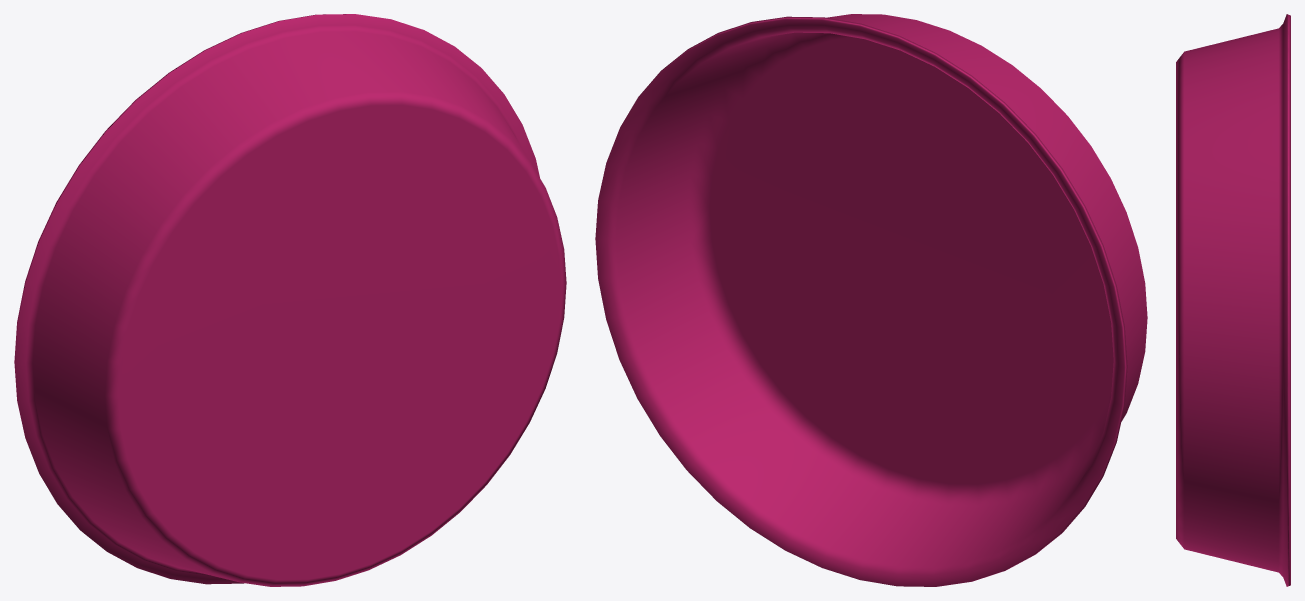
Rendered from SM_Dishes_07.fbx.
3 views of the same model, side by side, from view 1: azimuth 30°, elevation 25°; view 2: azimuth 150°, elevation 25°; view 3: azimuth 270°, elevation 25° (orthographic). The views are drawn at different scales.
Visible parts, largest first — view 1: SM_Dishes_07; view 2: SM_Dishes_07; view 3: SM_Dishes_07.
Part boxes in pixels (x1=…): SM_Dishes_07: x1=14, y1=14, x2=566, y2=586; SM_Dishes_07: x1=595, y1=14, x2=1147, y2=586; SM_Dishes_07: x1=1176, y1=14, x2=1290, y2=586.
Bounding box in the file's own units: 39.97 × 39.97 × 8.
